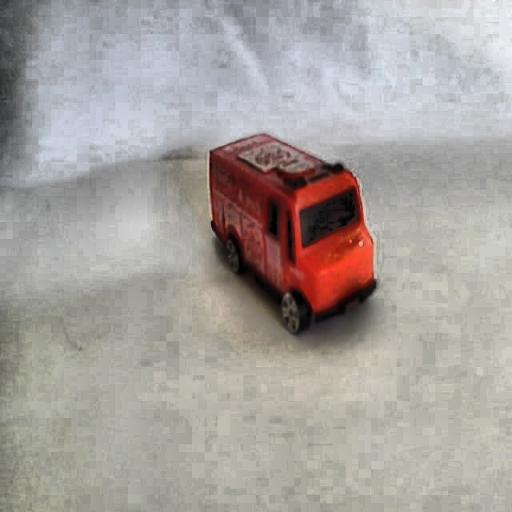fire_truck: (198, 125, 385, 341)
